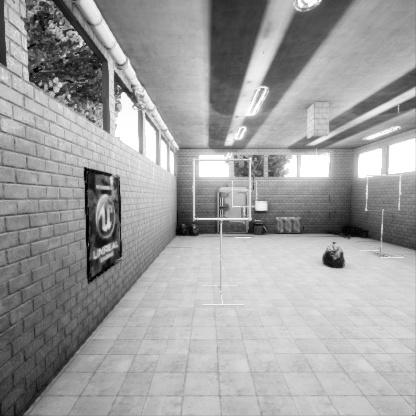gate: (194, 198, 255, 259), (369, 206, 407, 243), (232, 209, 258, 236)
